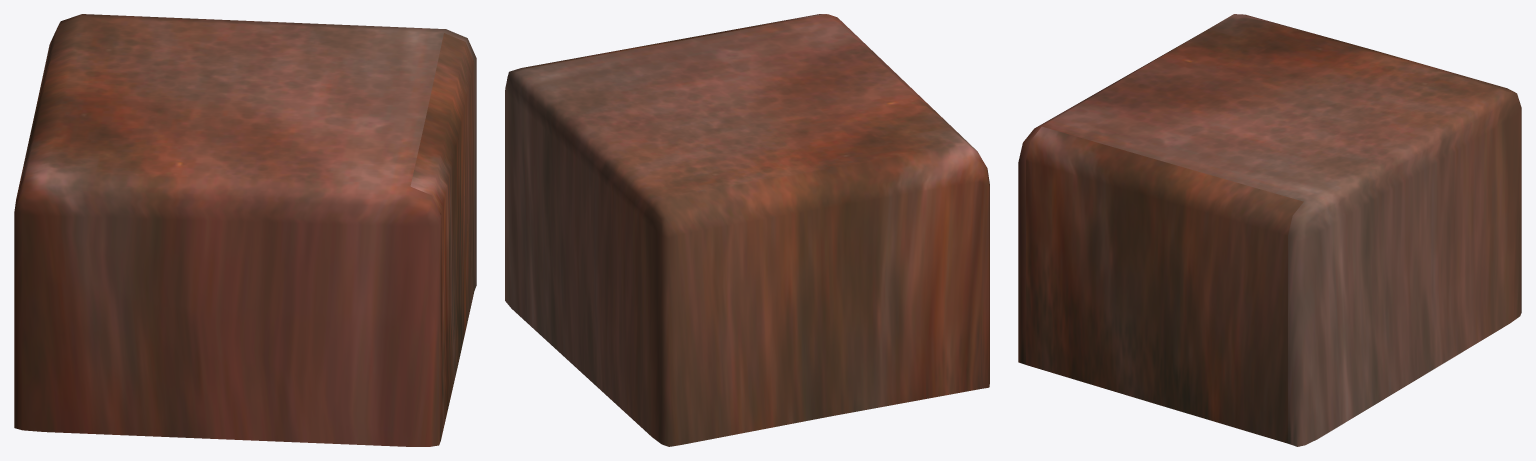
The model's file is Stool.fbx.
3 renders of one model, left to right at view 1: azimuth 30°, elevation 25°; view 2: azimuth 150°, elevation 25°; view 3: azimuth 270°, elevation 25°, orthographic. The views are drawn at different scales.
Parts seen in each view (by area): view 1: Empty_Mesh; view 2: Empty_Mesh; view 3: Empty_Mesh.
Part boxes in pixels (x1,y1,x2,y2): Empty_Mesh: (14,14,476,446); Empty_Mesh: (505,14,989,446); Empty_Mesh: (1018,14,1521,446).
Bounding box in the file's own units: 92.4 × 46.13 × 90.45.
